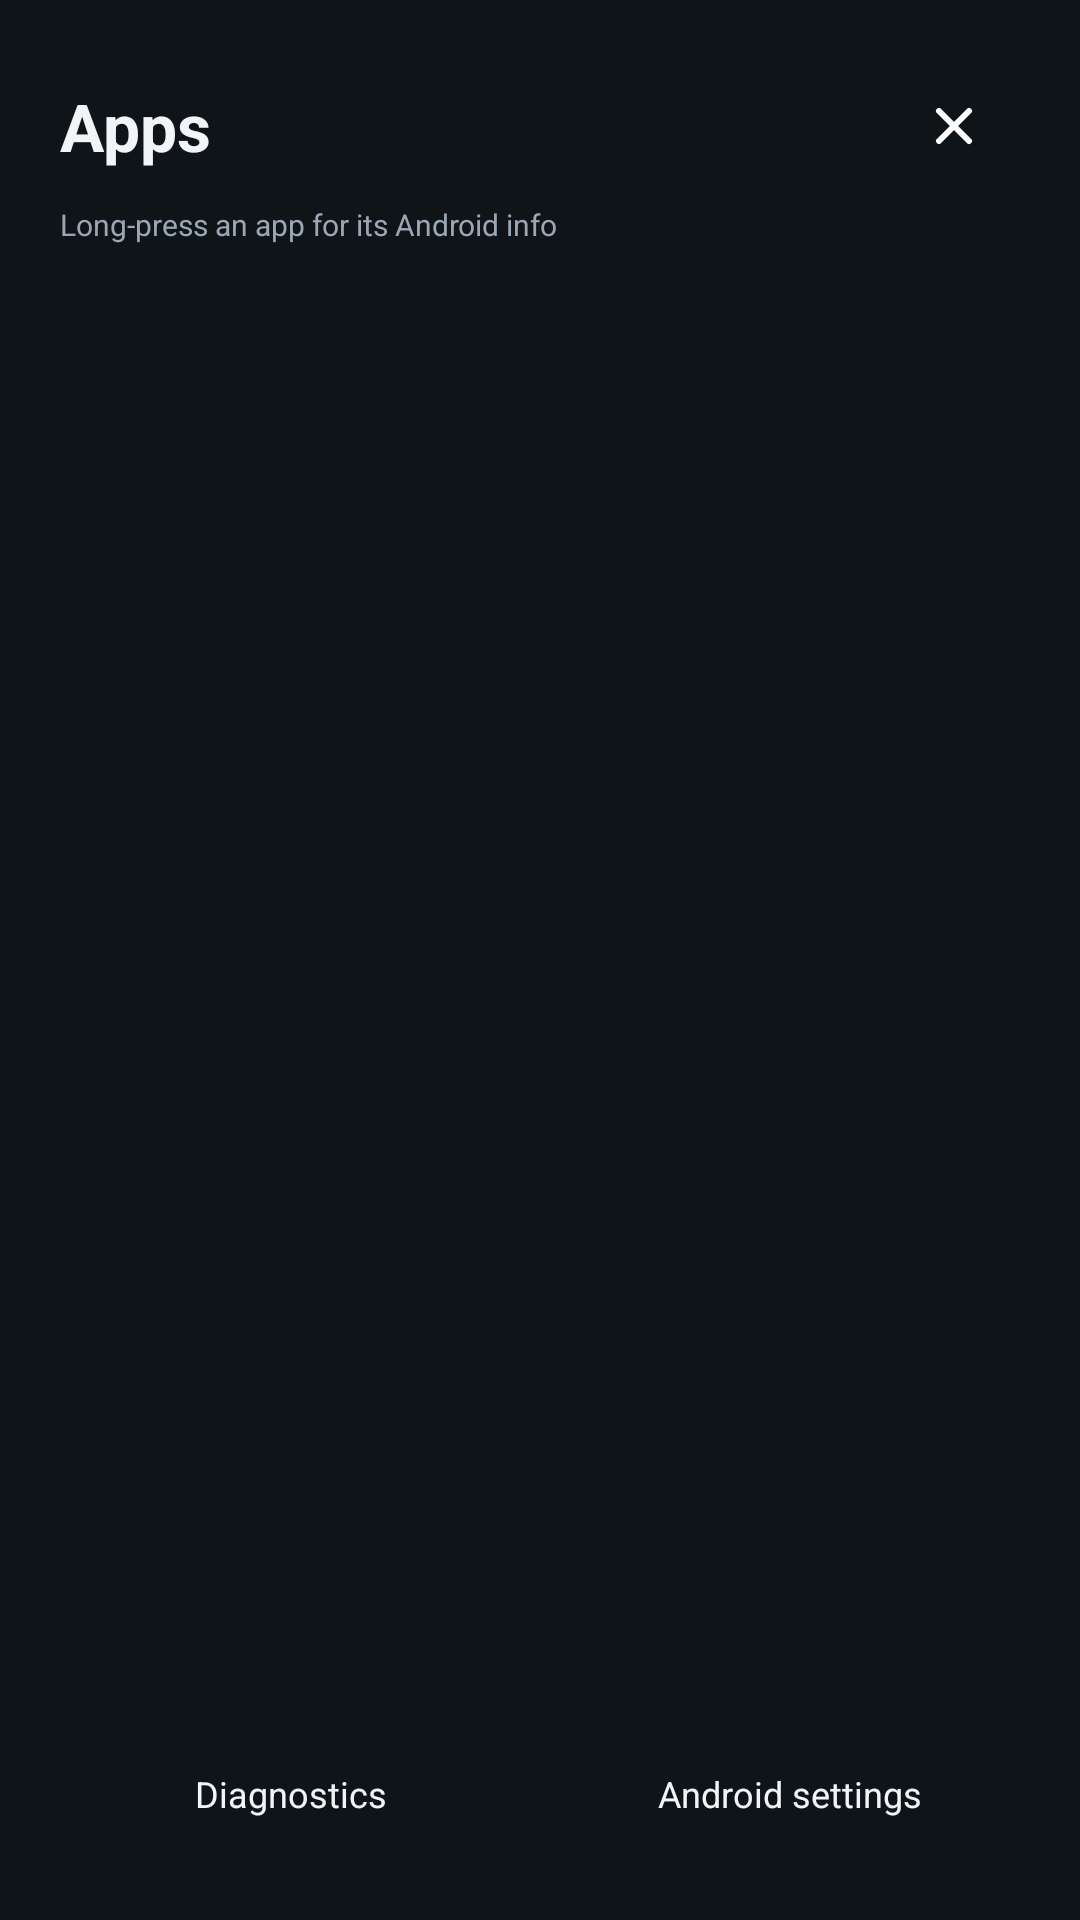

Point at icon controls on the screen. Image size 1080×1920, points as point (x, y).
Back to home: point (954, 126)
